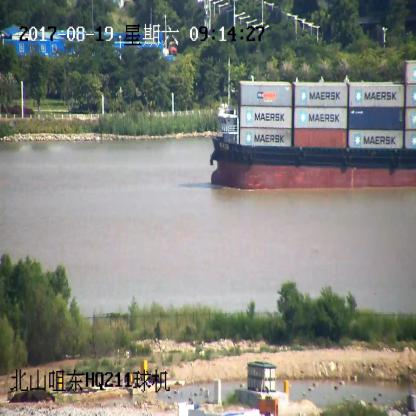Container Ship: (207, 61, 416, 188)
